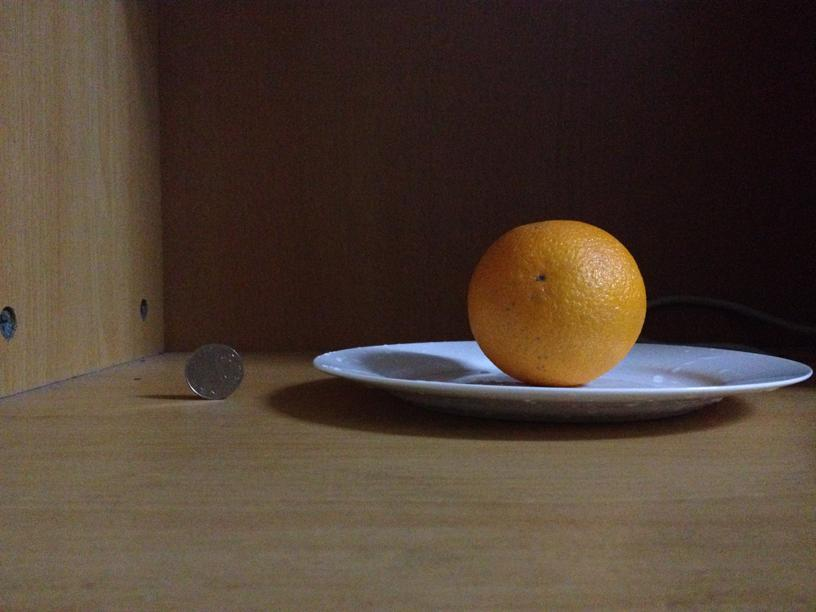coin: (182, 340, 246, 399)
orange: (471, 216, 644, 383)
